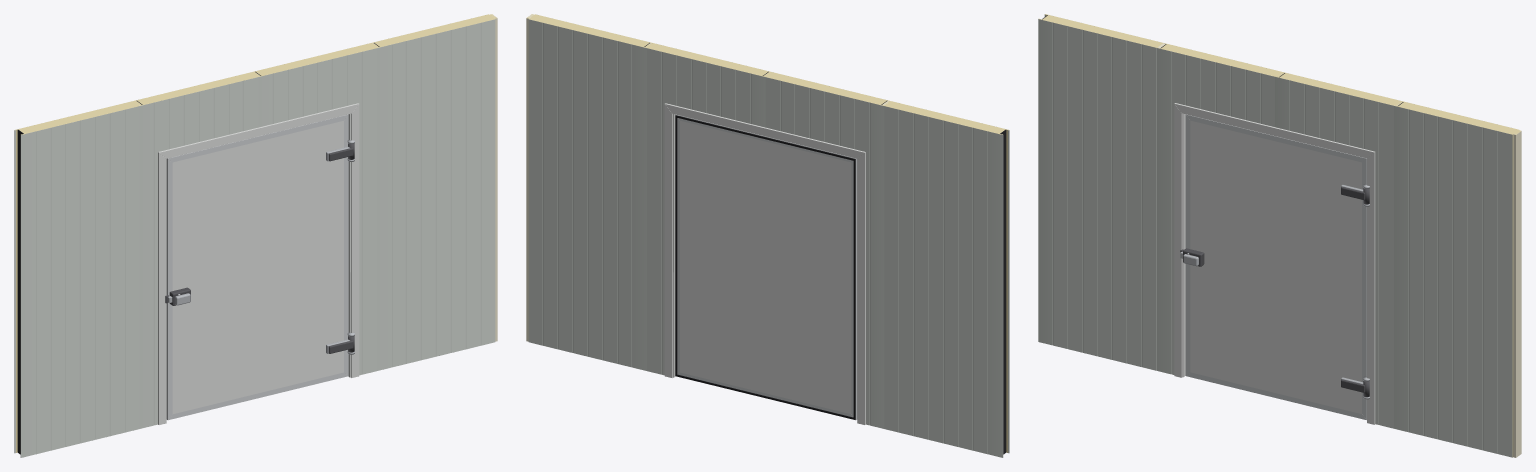
Rendered from hinged-5x7.glb.
3 renders of one model, left to right at view 1: azimuth 30°, elevation 25°; view 2: azimuth 150°, elevation 25°; view 3: azimuth 330°, elevation 25°, orthographic.
Visible parts, largest first — view 1: SkinF, Wall_p0_Steel_top, Wall_p3_Steel_top, Wall_p1_Steel_top, Wall_p2_Steel_top, TrimF_L, TrimF_R, TrimF_T, Wall_p0_PIR_core, AluF_L, Wall_p0_Gasket, AluF_R (+9 smaller); view 2: SkinB, Wall_p0_Steel_bottom, Wall_p3_Steel_bottom, Wall_p1_Steel_bottom, Wall_p2_Steel_bottom, TrimB_R, TrimB_L, TrimB_T, Wall_p0_PIR_core, Wall_p0_Gasket, AluB_L, Wall_p3_Tongue_tape (+13 smaller); view 3: SkinF, Wall_p3_Steel_top, Wall_p0_Steel_top, Wall_p2_Steel_top, Wall_p1_Steel_top, Wall_p3_Tongue_tape, TrimF_L, TrimF_R, TrimF_T, Wall_p3_PIR_core, AluF_L, AluF_R (+6 smaller).
Part boxes in pixels (bbox=[...]): SkinF: bbox=[172, 121, 343, 413]; Wall_p0_Steel_top: bbox=[20, 106, 139, 457]; Wall_p3_Steel_top: bbox=[377, 19, 495, 370]; Wall_p1_Steel_top: bbox=[139, 77, 258, 428]; Wall_p2_Steel_top: bbox=[258, 48, 376, 375]; TrimF_L: bbox=[158, 152, 166, 424]; TrimF_R: bbox=[350, 104, 359, 377]; TrimF_T: bbox=[158, 103, 358, 158]; Wall_p0_PIR_core: bbox=[14, 101, 141, 452]; AluF_L: bbox=[167, 159, 172, 419]; Wall_p0_Gasket: bbox=[17, 129, 23, 454]; AluF_R: bbox=[344, 115, 348, 375]; SkinB: bbox=[680, 121, 851, 413]; Wall_p0_Steel_bottom: bbox=[884, 106, 1003, 457]; Wall_p3_Steel_bottom: bbox=[528, 19, 646, 370]; Wall_p1_Steel_bottom: bbox=[765, 77, 884, 428]; Wall_p2_Steel_bottom: bbox=[647, 48, 765, 375]; TrimB_R: bbox=[664, 104, 673, 377]; TrimB_L: bbox=[857, 152, 865, 424]; TrimB_T: bbox=[665, 103, 865, 158]; Wall_p0_PIR_core: bbox=[883, 101, 1009, 452]; Wall_p0_Gasket: bbox=[1000, 129, 1006, 454]; AluB_L: bbox=[851, 161, 856, 419]; Wall_p3_Tongue_tape: bbox=[526, 14, 533, 341]; SkinF: bbox=[1190, 120, 1361, 413]; Wall_p3_Steel_top: bbox=[1394, 105, 1512, 457]; Wall_p0_Steel_top: bbox=[1038, 19, 1156, 370]; Wall_p2_Steel_top: bbox=[1275, 77, 1393, 428]; Wall_p1_Steel_top: bbox=[1157, 48, 1275, 374]; Wall_p3_Tongue_tape: bbox=[1513, 131, 1521, 457]; TrimF_L: bbox=[1174, 104, 1182, 377]; TrimF_R: bbox=[1367, 152, 1375, 424]; TrimF_T: bbox=[1174, 103, 1374, 158]; Wall_p3_PIR_core: bbox=[1394, 101, 1520, 457]; AluF_L: bbox=[1185, 115, 1190, 375]; AluF_R: bbox=[1362, 159, 1366, 419].
Size of the model in its own units: 4.02 by 2.6 by 0.196.
